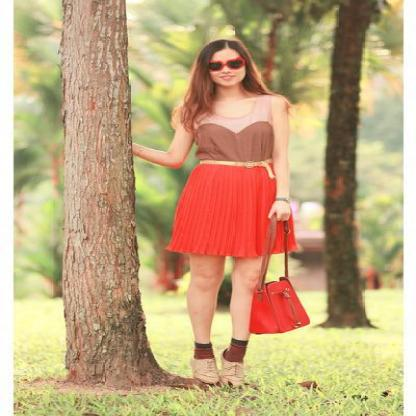bag: (248, 258, 309, 333)
shirt: (187, 121, 274, 166)
shoe: (194, 358, 249, 388)
skirt: (168, 164, 296, 257)
